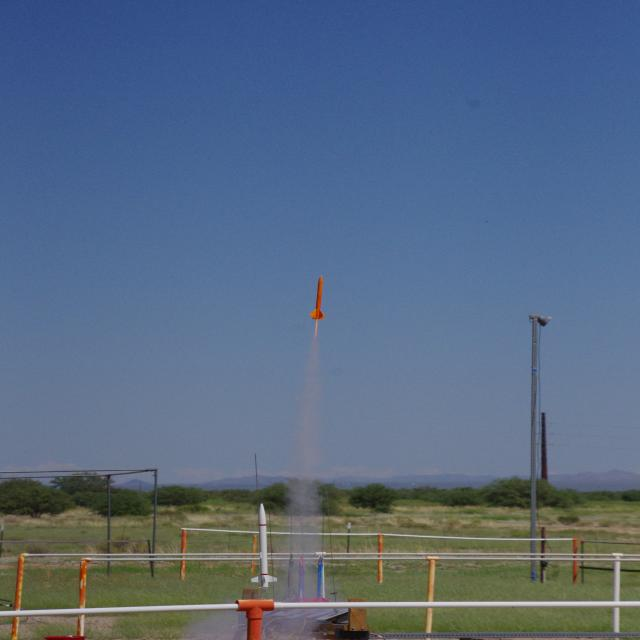Rocket: (309, 274, 326, 320)
